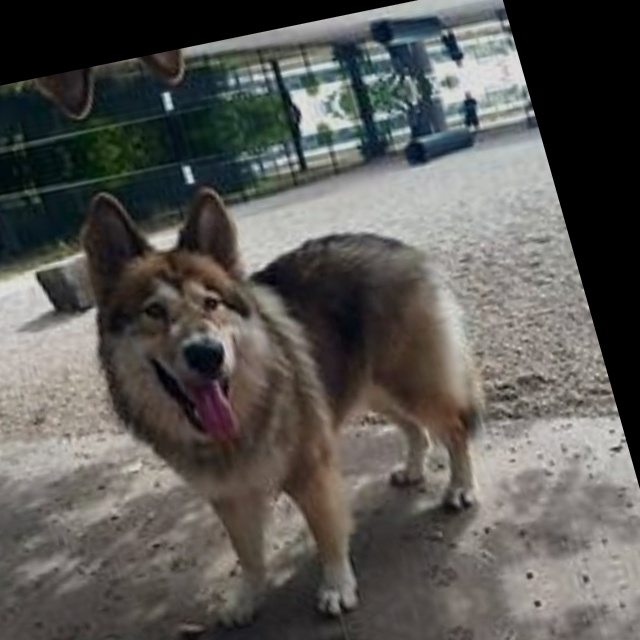dog: (37, 161, 515, 622), (0, 11, 370, 103)
